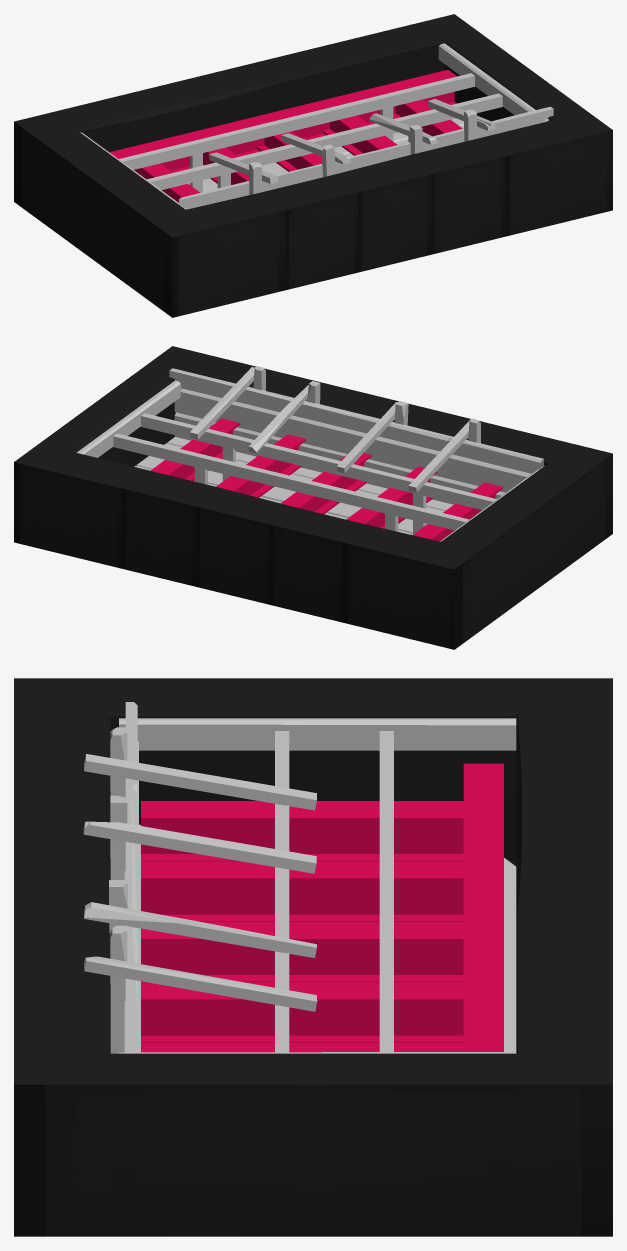
Rendered from Construction_Trench02.fbx.
The picture shows the model from 3 angles, top to bottom: view 1: azimuth 30°, elevation 25°; view 2: azimuth 150°, elevation 25°; view 3: azimuth 270°, elevation 25°; orthographic projection. The views are drawn at different scales.
Visible parts, largest first — view 1: SM_City_Construction_Trench_02a.mo; view 2: SM_City_Construction_Trench_02a.mo; view 3: SM_City_Construction_Trench_02a.mo.
Boxes of the visible parts, x1=… form: SM_City_Construction_Trench_02a.mo: x1=14, y1=14, x2=612, y2=317; SM_City_Construction_Trench_02a.mo: x1=14, y1=346, x2=612, y2=649; SM_City_Construction_Trench_02a.mo: x1=14, y1=678, x2=612, y2=1236.
Bounding box in the file's own units: 711 × 171 × 443.
